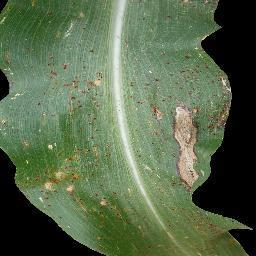Corn_Common_Rust: (122, 51, 248, 256), (0, 43, 117, 254), (0, 0, 103, 40), (167, 0, 245, 39), (134, 4, 153, 33)
